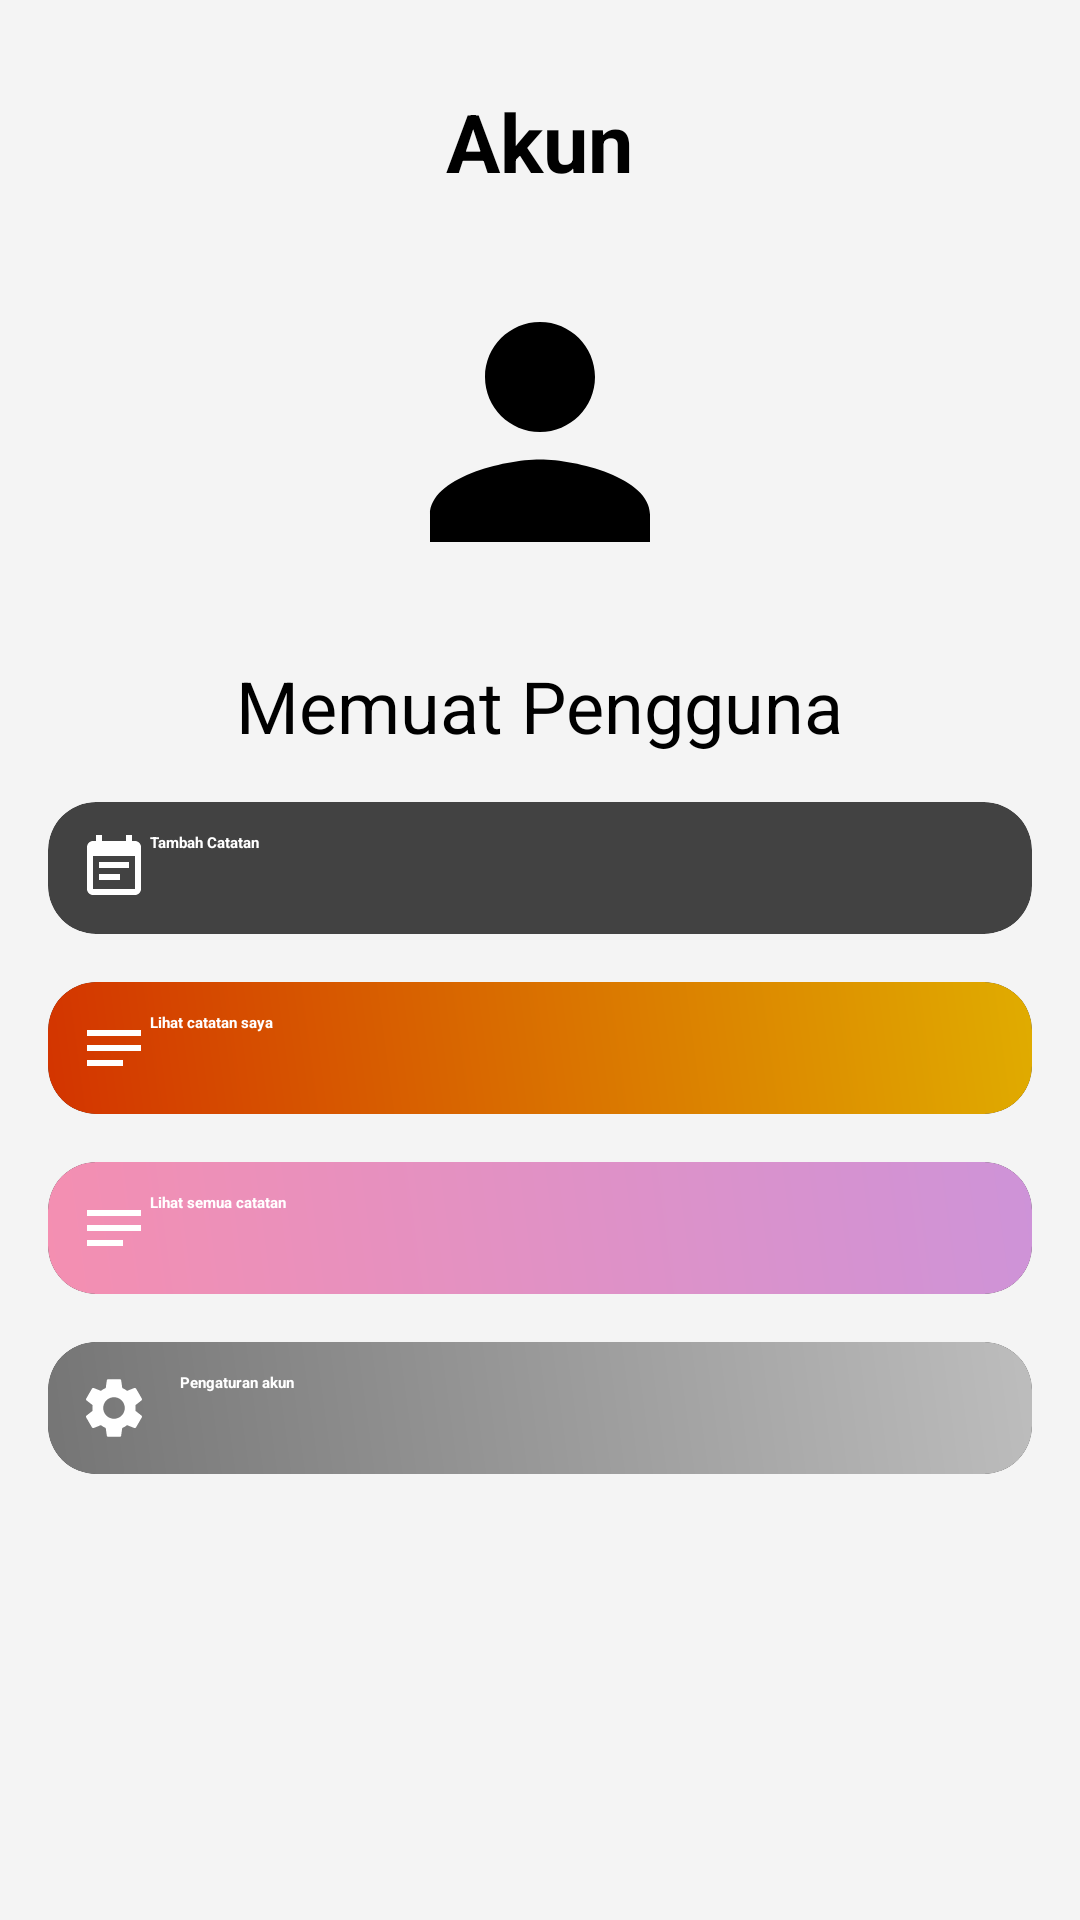

Icons on this 1080x1920 Android screen, each with the point to tap as point (x, y):
user: point (540, 432)
